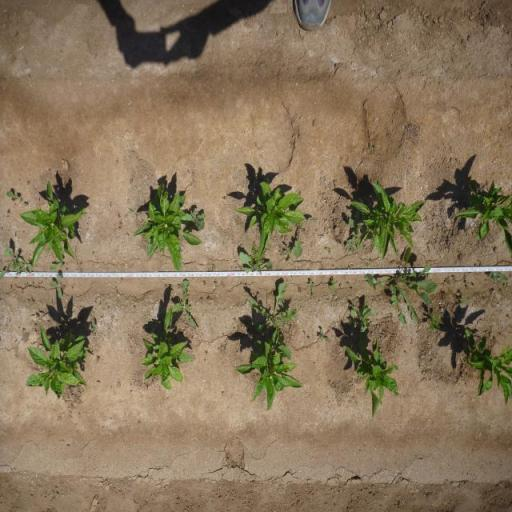plant: (18, 177, 87, 265), (133, 182, 201, 271), (232, 330, 304, 413), (359, 177, 428, 256), (138, 302, 196, 395), (236, 180, 306, 255), (25, 323, 90, 403), (449, 178, 512, 250), (343, 344, 403, 418), (461, 328, 512, 406)
weed: (363, 247, 439, 329), (245, 281, 297, 332), (172, 278, 199, 330), (347, 302, 374, 350), (288, 219, 317, 259), (0, 244, 32, 278), (238, 251, 275, 275), (181, 210, 205, 234), (249, 240, 267, 267), (347, 211, 364, 235), (49, 274, 64, 300), (427, 314, 441, 334), (487, 272, 509, 282), (366, 142, 378, 156), (88, 319, 98, 335), (318, 329, 330, 342), (5, 190, 19, 201), (284, 244, 292, 262), (50, 261, 64, 271), (352, 238, 361, 252), (346, 238, 354, 252), (310, 286, 316, 298), (235, 260, 242, 270), (331, 277, 336, 291), (444, 276, 451, 286), (279, 246, 285, 257), (504, 282, 510, 292), (325, 246, 332, 253), (26, 298, 34, 304), (308, 280, 314, 288), (460, 298, 466, 306), (298, 287, 304, 294), (364, 261, 370, 267), (22, 202, 29, 207), (212, 263, 216, 271), (214, 279, 218, 287), (95, 356, 100, 362), (129, 208, 134, 214), (203, 279, 207, 286), (222, 195, 227, 200), (129, 178, 133, 184), (346, 265, 352, 269), (237, 214, 240, 221), (254, 174, 258, 179), (346, 282, 350, 285), (340, 283, 342, 288), (20, 198, 22, 202)
